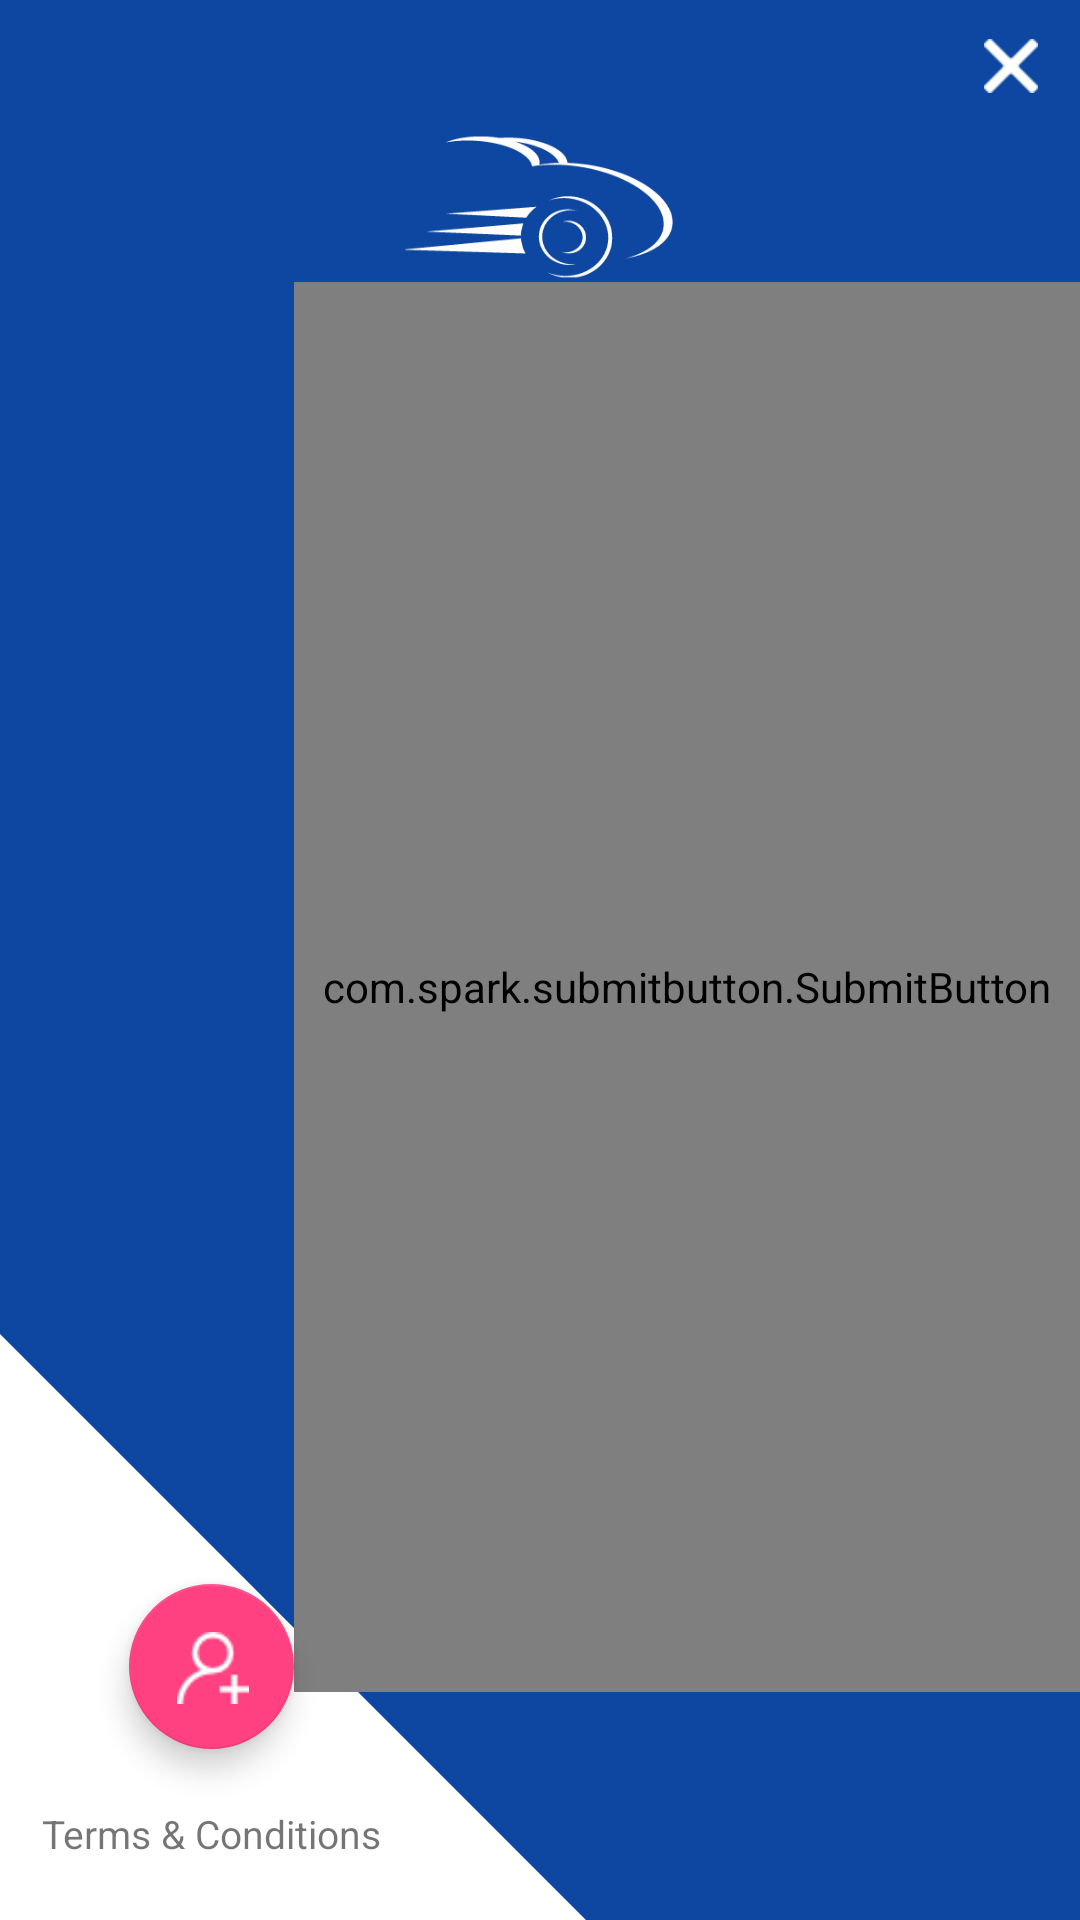

Locate icon controls on the screen. Image size 1080*1920, boxes as (x1, y1, x2, y2).
closing: (984, 39, 1038, 93)
register user: (129, 1584, 294, 1749)
